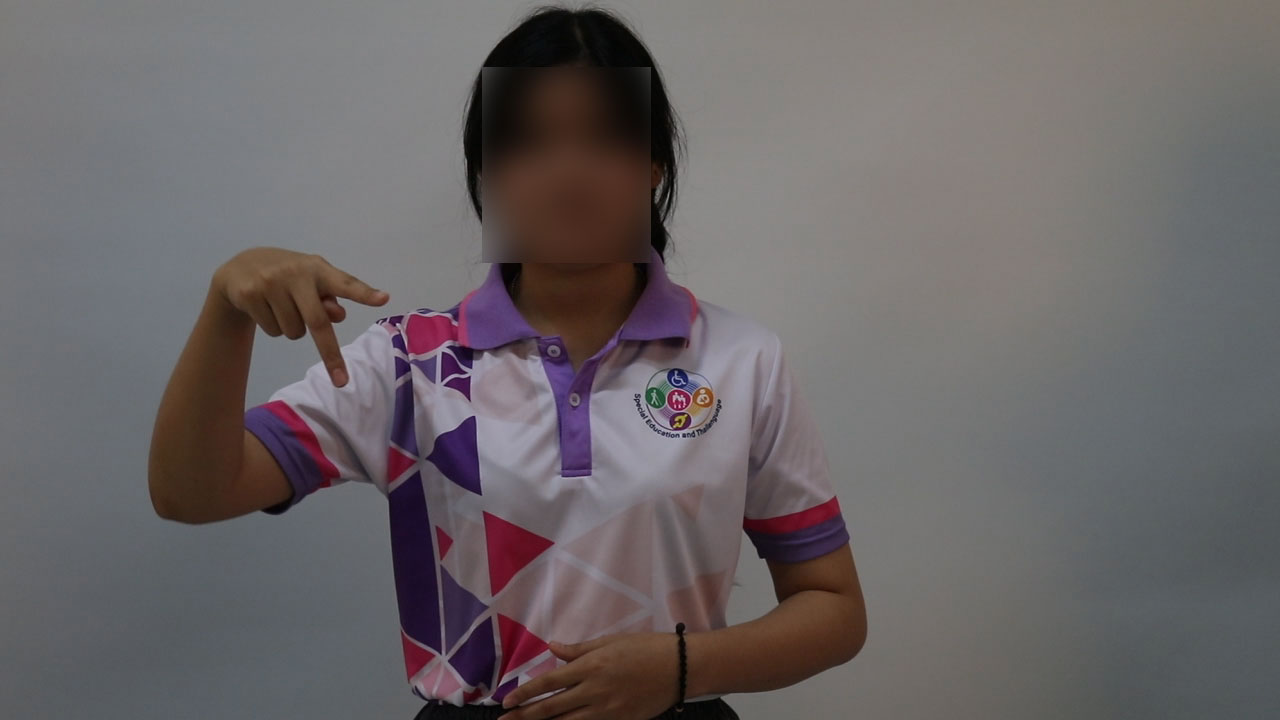por: (198, 217, 394, 394)
